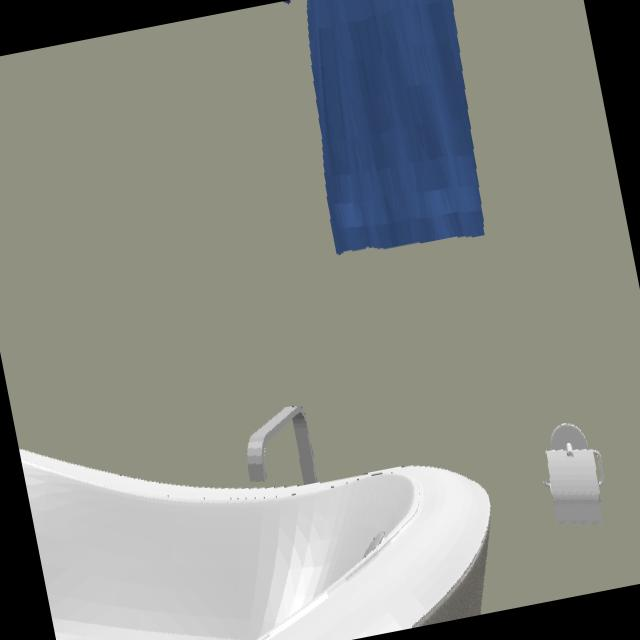bathtube: (19, 450, 493, 640)
